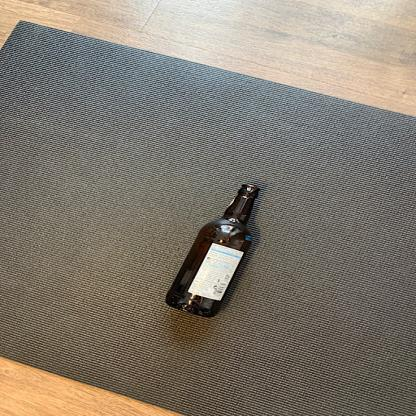trash: (164, 181, 263, 317)
